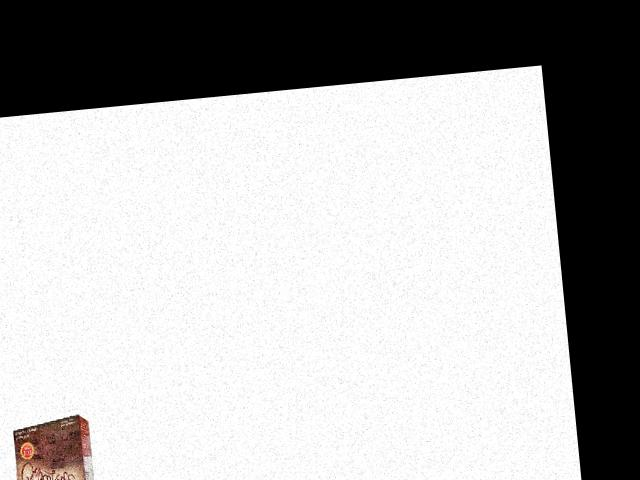chocolate: (8, 413, 97, 480)
